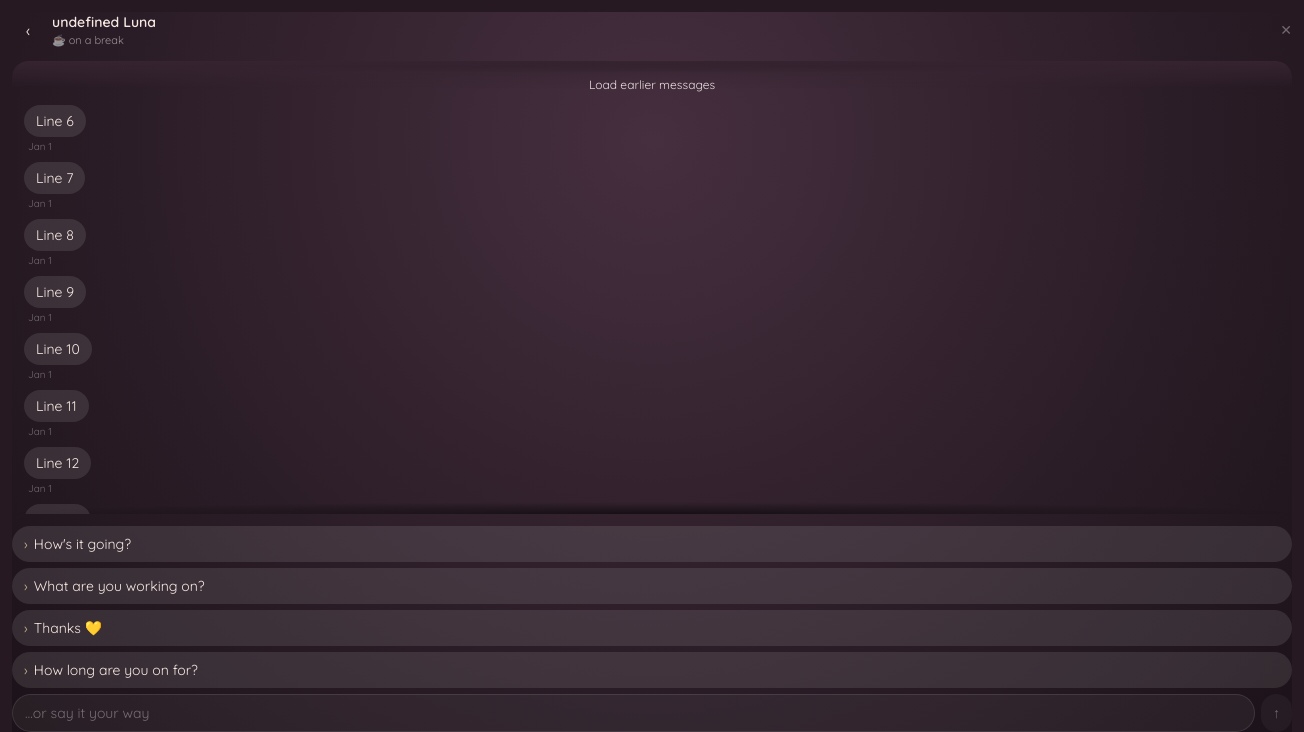
it: chat delivery and recovery › keeps the transcript and allows retrying a failed history request
Click the button "Load earlier messages": (652, 84) [577,72,727,96]
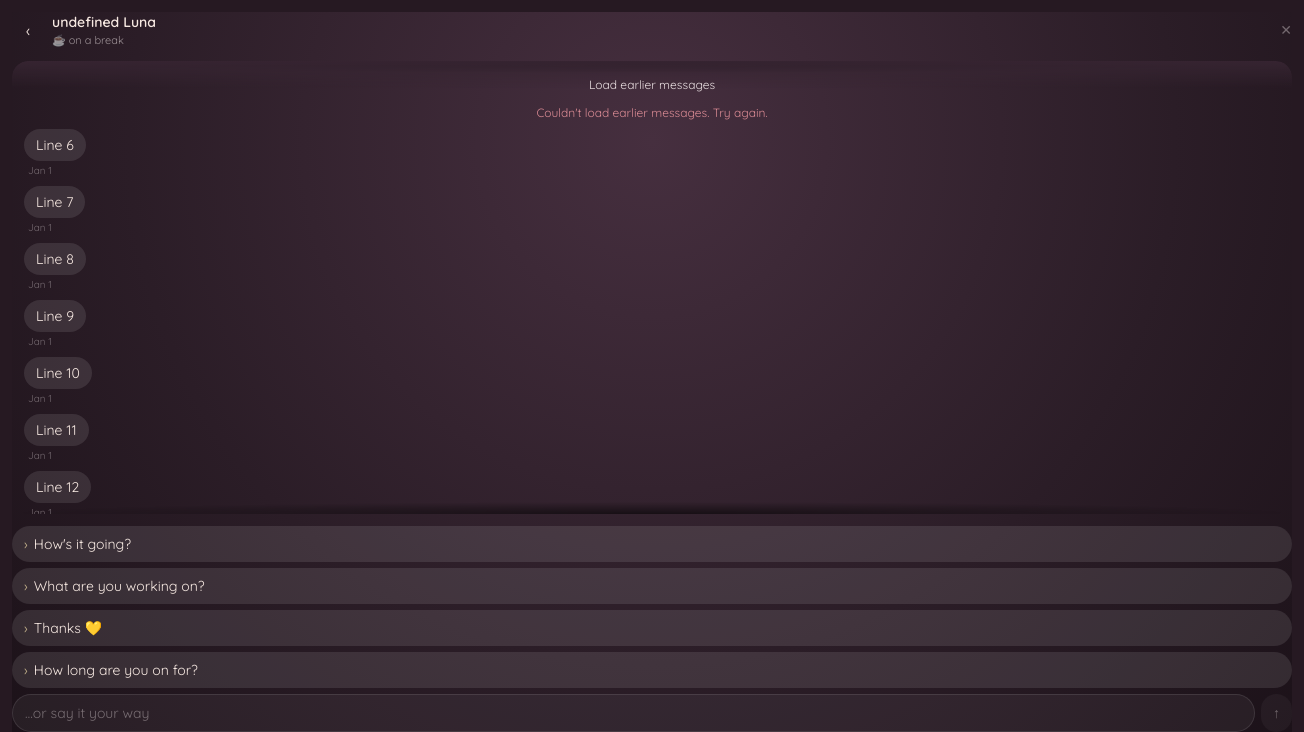
Expected: the message "Couldn't load earlier messages. Try again." is shown, [536,104,768,120]
Click the button "Load earlier messages": (652, 84) [577,72,727,96]
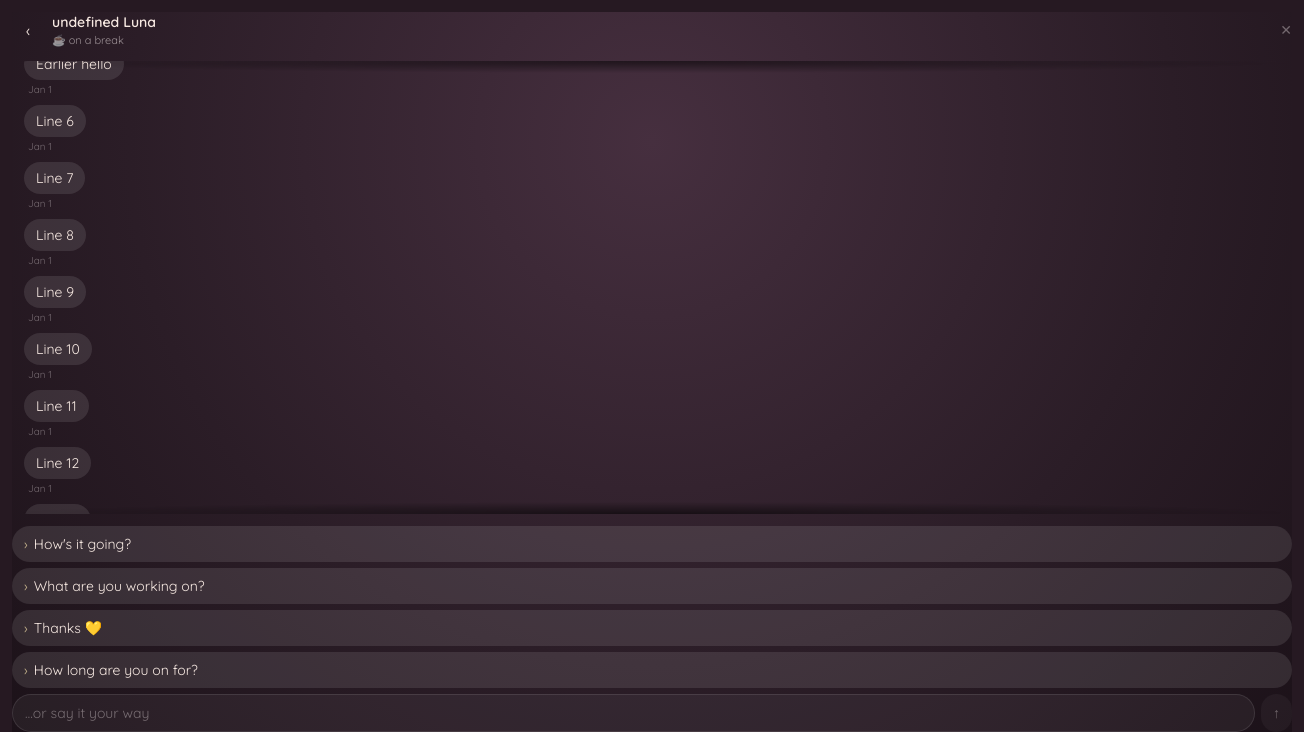
Expected: the text "Earlier hello" is shown, [36,60,112,72]
Expected: the message "Couldn't load earlier messages. Try again." is gone
